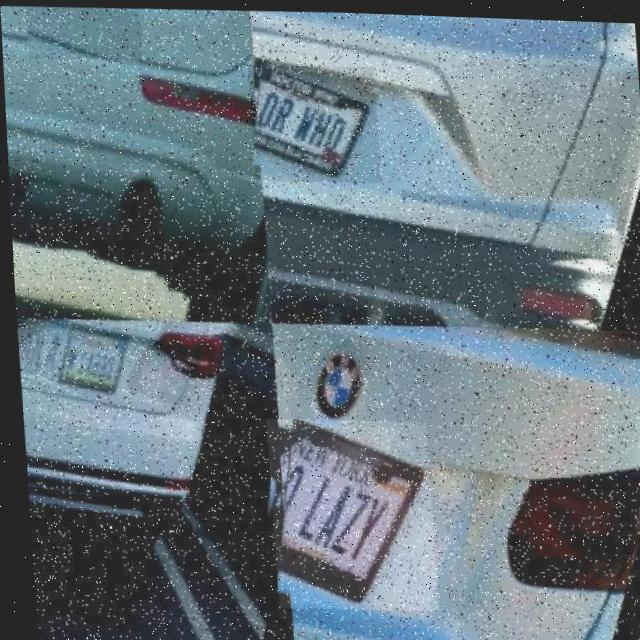LicensePlate: (271, 417, 424, 607), (252, 63, 375, 179), (25, 4, 142, 61)
